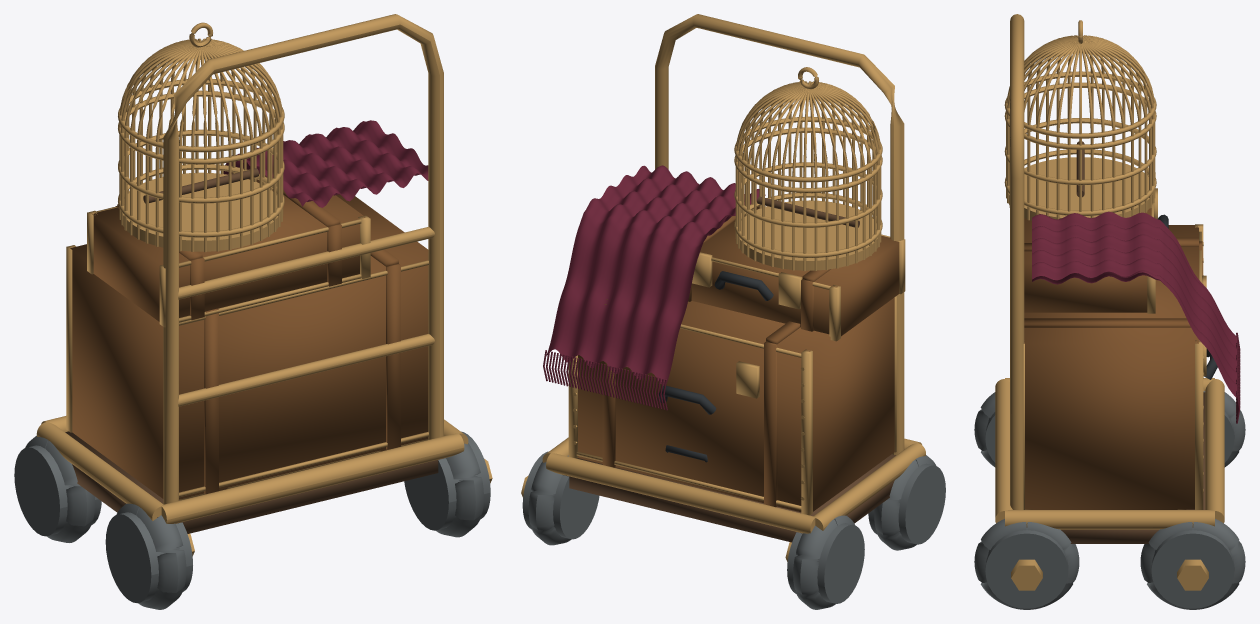
File: trolley.glb
3 views of the same model, side by side, from view 1: azimuth 30°, elevation 25°; view 2: azimuth 150°, elevation 25°; view 3: azimuth 270°, elevation 25° (orthographic). The views are drawn at different scales.
Visible parts, largest first — view 1: trolley_leather.002, trolley_brass.002, trolley_steel.002, trolley_cloth.002, trolley_wood.002; view 2: trolley_leather.002, trolley_brass.002, trolley_cloth.002, trolley_steel.002, trolley_wood.002, trolley_black.002; view 3: trolley_leather.002, trolley_brass.002, trolley_steel.002, trolley_cloth.002, trolley_wood.002.
Part boxes in pixels (x1,y1,x2,y2): trolley_leather.002: [70, 175, 428, 499]; trolley_brass.002: [36, 14, 492, 555]; trolley_steel.002: [14, 431, 490, 609]; trolley_cloth.002: [223, 120, 428, 207]; trolley_wood.002: [65, 168, 445, 533]; trolley_leather.002: [578, 206, 899, 512]; trolley_brass.002: [521, 14, 925, 561]; trolley_cloth.002: [543, 165, 765, 410]; trolley_steel.002: [522, 451, 945, 609]; trolley_wood.002: [563, 196, 895, 542]; trolley_black.002: [657, 271, 773, 462]; trolley_leather.002: [1024, 176, 1202, 509]; trolley_brass.002: [995, 14, 1224, 590]; trolley_steel.002: [974, 391, 1245, 609]; trolley_cloth.002: [1032, 211, 1240, 423]; trolley_wood.002: [1061, 141, 1205, 543].
Size of the model in its own units: 1.53 by 2.22 by 1.11.
